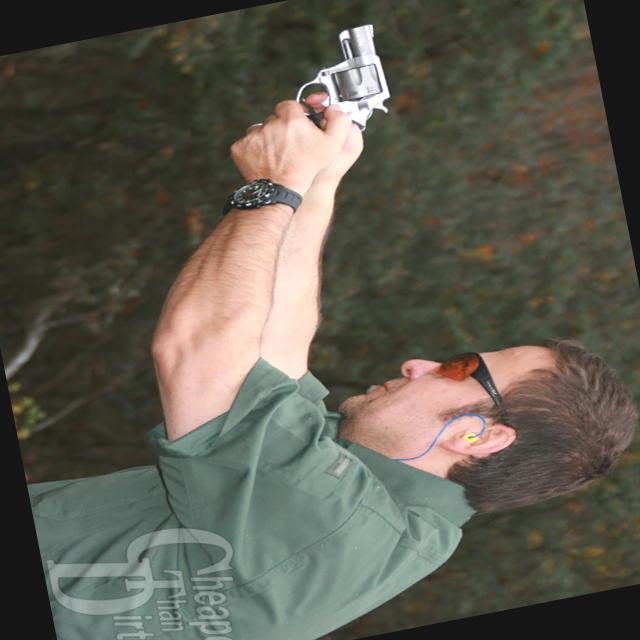handgun: (256, 16, 411, 150)
